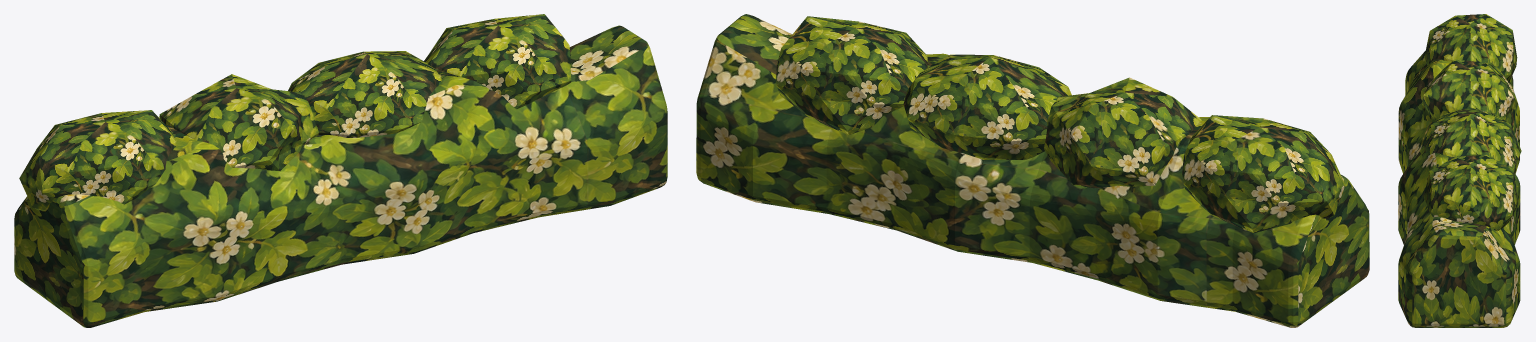
Rendered from hawthorn_straight.glb.
3 renders of one model, left to right at view 1: azimuth 30°, elevation 25°; view 2: azimuth 150°, elevation 25°; view 3: azimuth 270°, elevation 25°, orthographic. The views are drawn at different scales.
Parts seen in each view (by area): view 1: Painted flowering hawthorn; view 2: Painted flowering hawthorn; view 3: Painted flowering hawthorn.
Part boxes in pixels (box(x1,y1,x2,y2)): Painted flowering hawthorn: box(14, 14, 667, 327); Painted flowering hawthorn: box(696, 14, 1369, 327); Painted flowering hawthorn: box(1398, 14, 1521, 327).
Size of the model in its own units: 8.14 by 2.26 by 1.98.
Materials: 2 (2 with a texture image).
